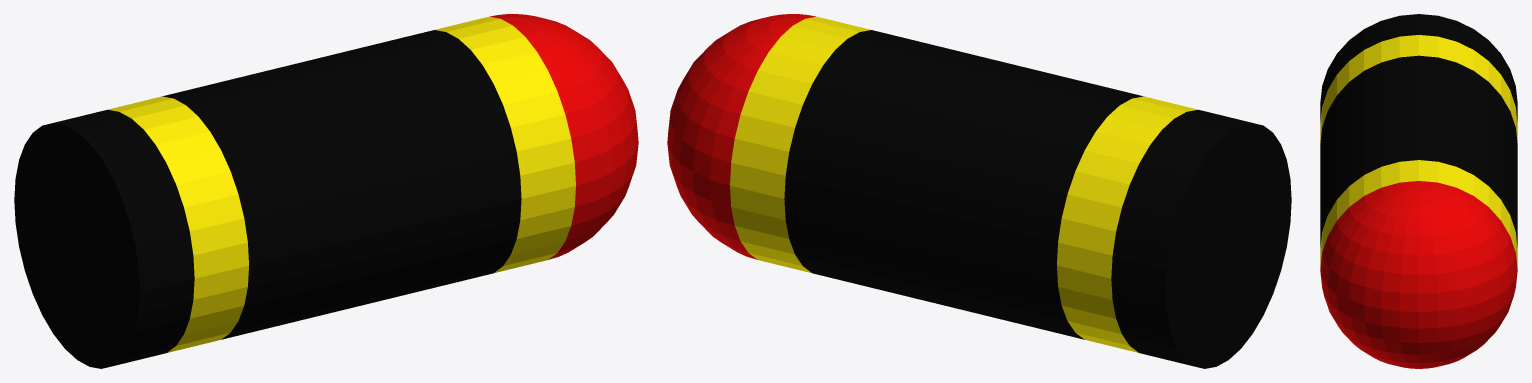
Rendered from Secondary_shell.fbx.
3 renders of one model, left to right at view 1: azimuth 30°, elevation 25°; view 2: azimuth 150°, elevation 25°; view 3: azimuth 270°, elevation 25°, orthographic. The views are drawn at different scales.
Parts seen in each view (by area): view 1: Cylinder.001; view 2: Cylinder.001; view 3: Cylinder.001.
Boxes of the visible parts, bbox=[...] form: Cylinder.001: bbox=[14, 14, 638, 368]; Cylinder.001: bbox=[667, 14, 1291, 368]; Cylinder.001: bbox=[1320, 14, 1517, 368].
Bounding box in the file's own units: 50 × 20 × 20.
